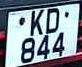4: (36, 34, 52, 61), (51, 31, 66, 58)
8: (18, 35, 37, 65)
D: (44, 7, 62, 35)
K: (28, 8, 45, 38)
